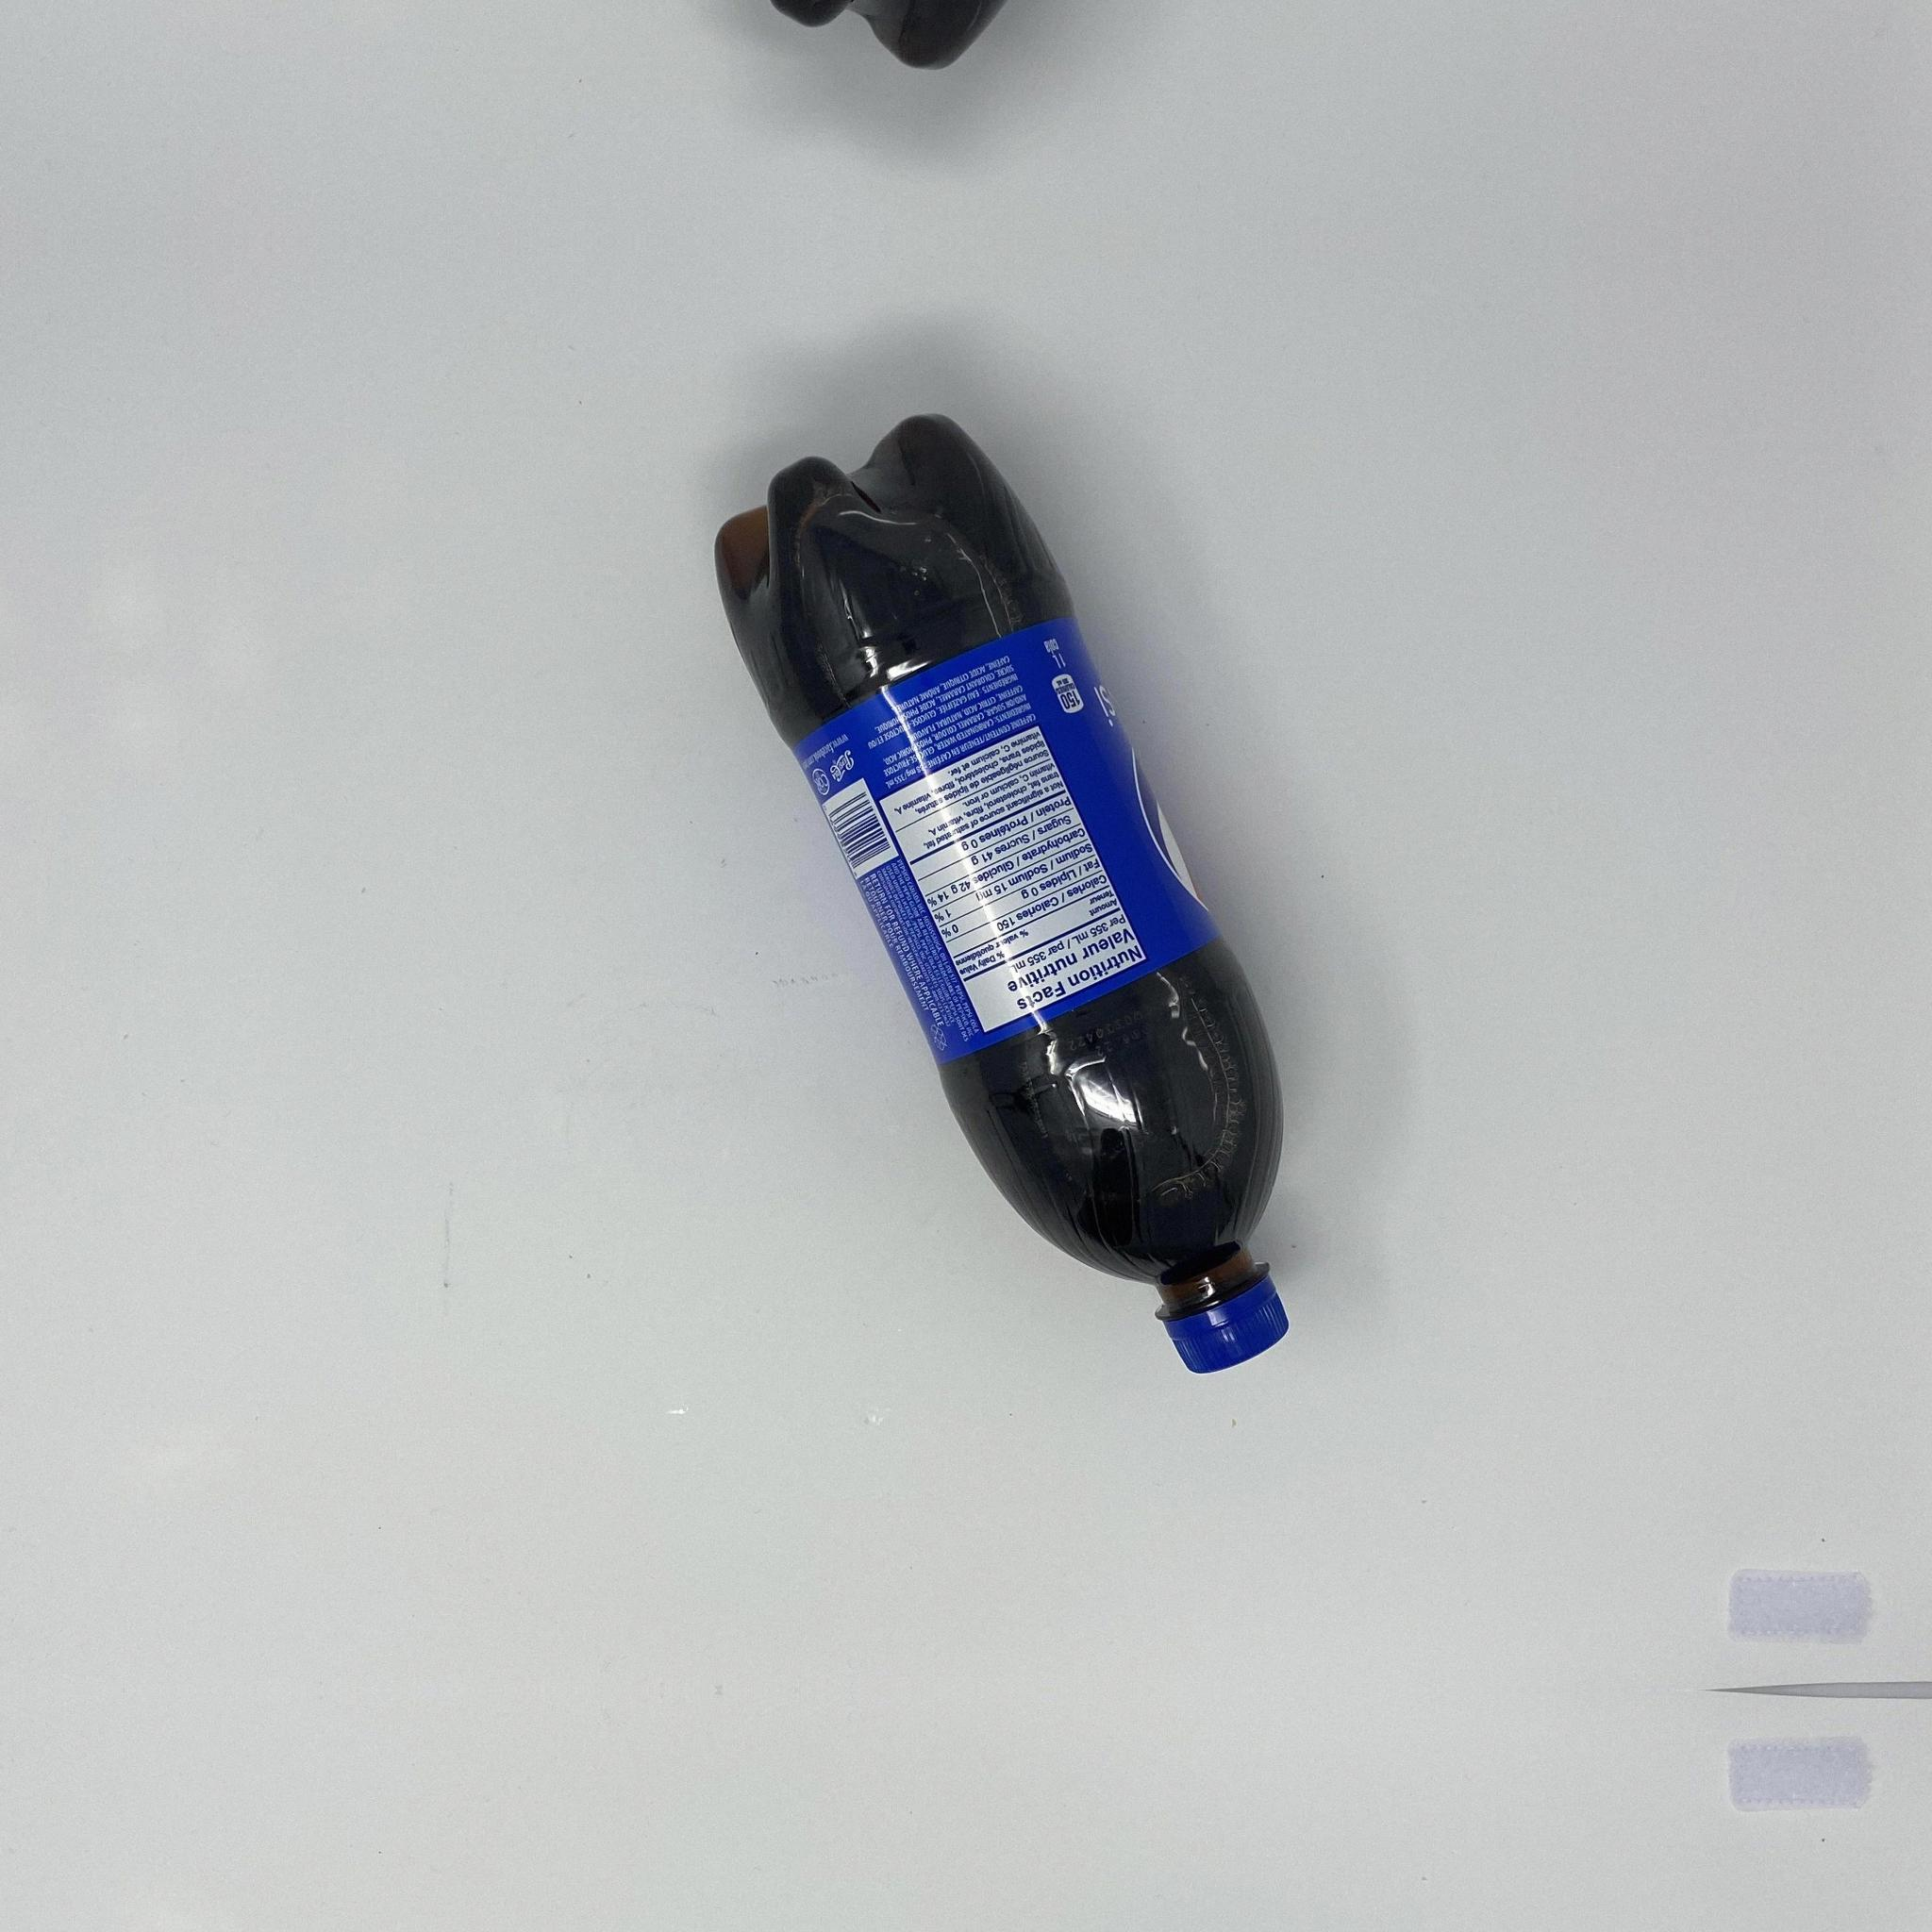PET: (711, 410, 1292, 1375)
pepsi: (711, 410, 1292, 1375)
plastic: (711, 410, 1292, 1375)
soft-drink: (711, 410, 1292, 1375)
